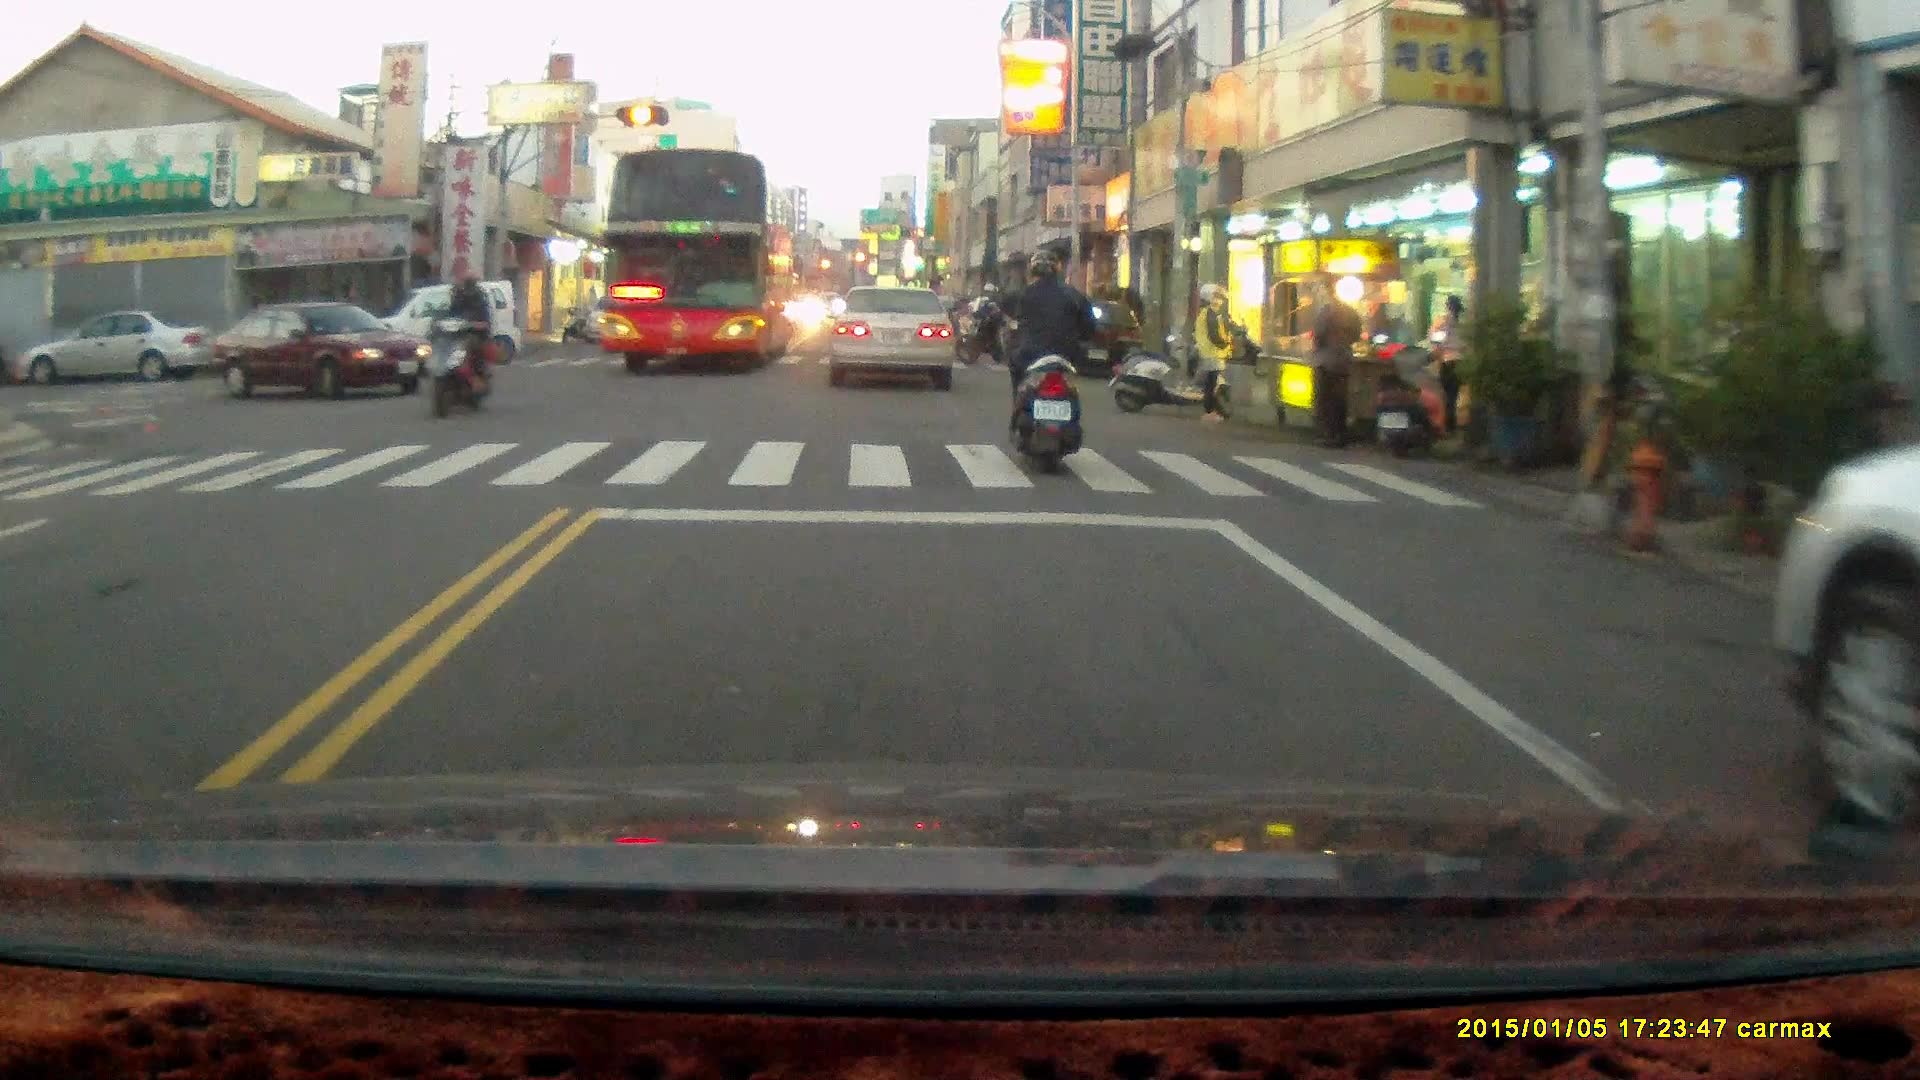pedestrian: (1308, 268, 1362, 451), (1427, 296, 1471, 438), (1190, 280, 1232, 425)
rider: (995, 242, 1105, 474), (422, 266, 495, 417), (954, 282, 1019, 367)
vehicle: (1760, 419, 1920, 852), (603, 151, 794, 381), (215, 302, 433, 401), (18, 311, 199, 388), (370, 282, 526, 371), (829, 287, 961, 391), (1047, 295, 1150, 377), (585, 292, 664, 352)
